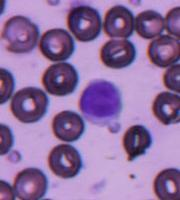L: (79, 78, 123, 125)
